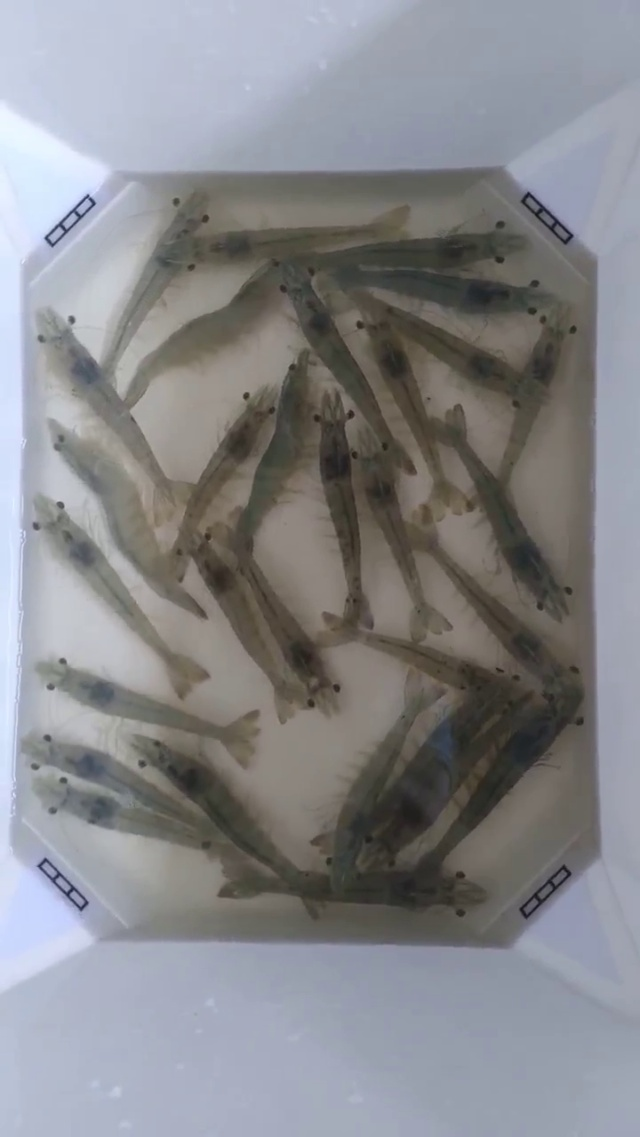shrimp: (547, 552, 639, 860), (521, 483, 639, 693), (524, 210, 639, 421), (0, 563, 112, 769), (459, 572, 581, 758), (294, 295, 415, 473), (0, 317, 86, 552), (402, 785, 522, 944), (0, 399, 82, 625), (20, 197, 105, 385), (116, 504, 206, 681), (144, 741, 256, 881), (433, 405, 523, 576), (37, 308, 140, 441), (322, 348, 415, 494), (117, 194, 206, 346), (89, 677, 184, 818), (13, 733, 123, 851), (455, 171, 547, 305), (276, 611, 359, 723), (222, 227, 353, 289), (200, 385, 277, 480), (196, 703, 292, 767)
